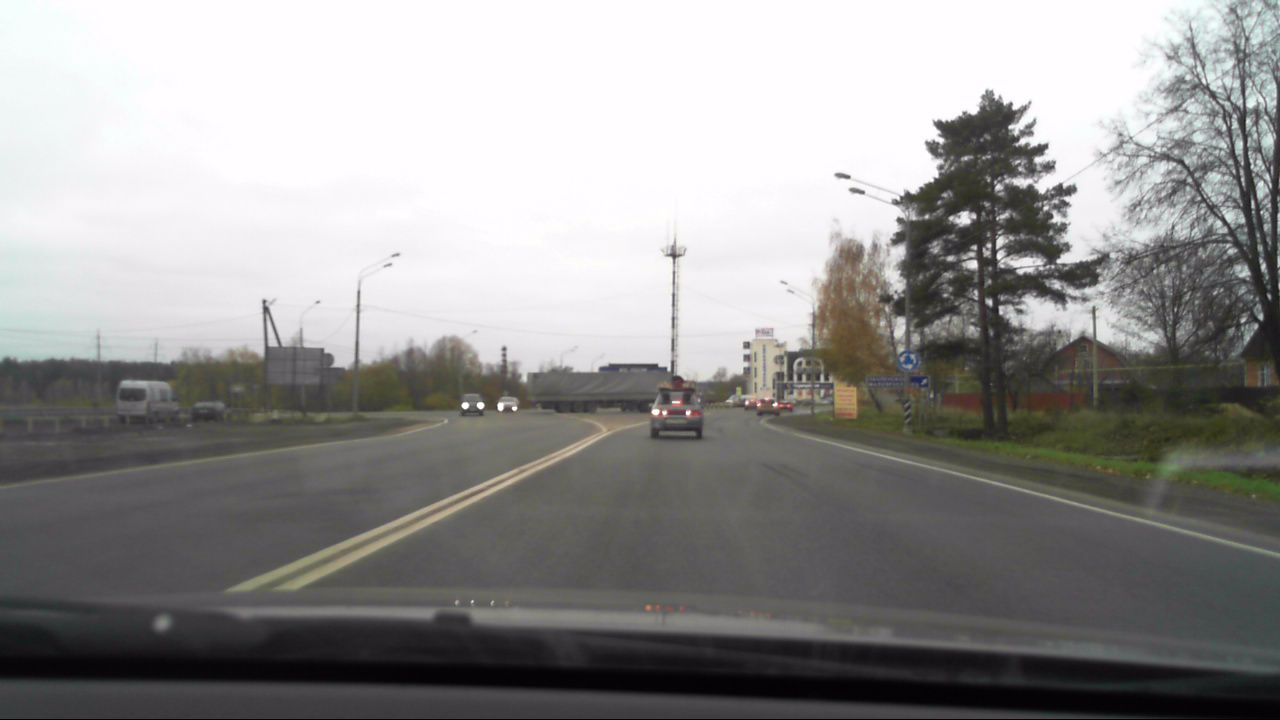Round-About: (893, 347, 920, 373)
